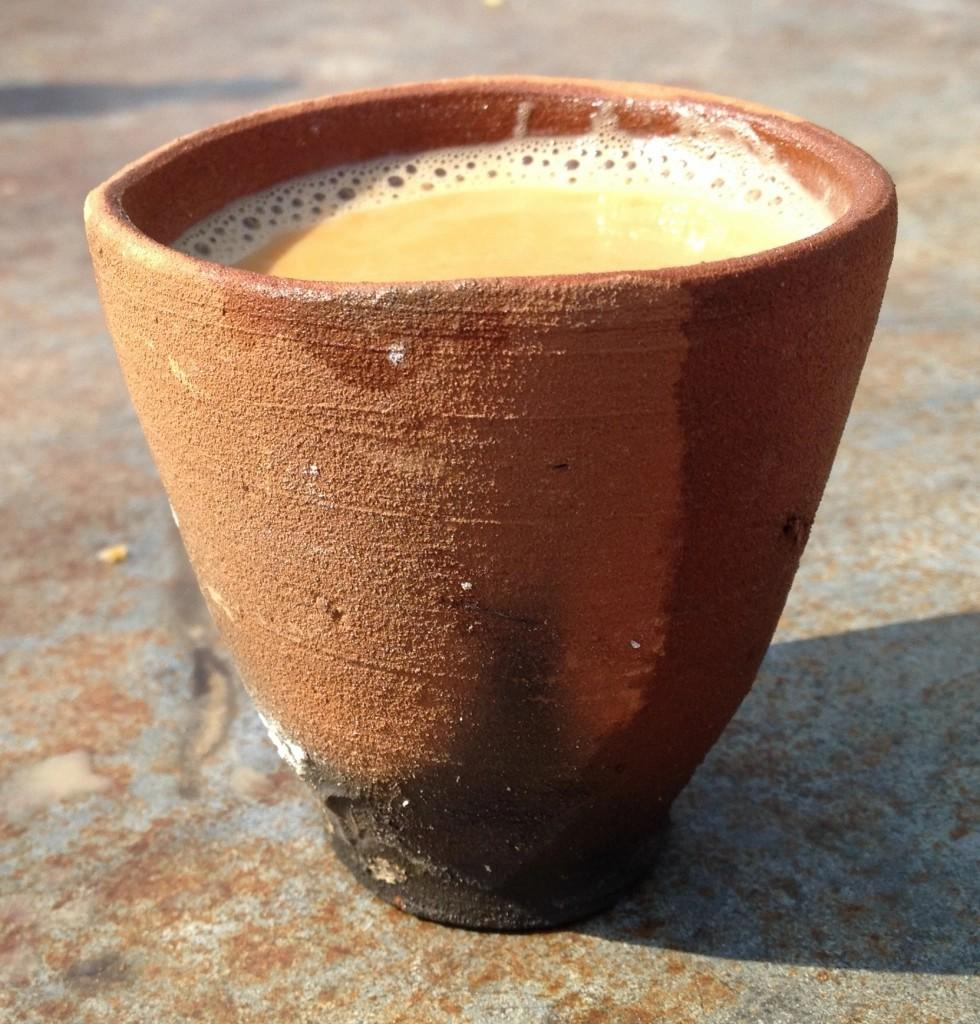Chai: (161, 135, 834, 277)
